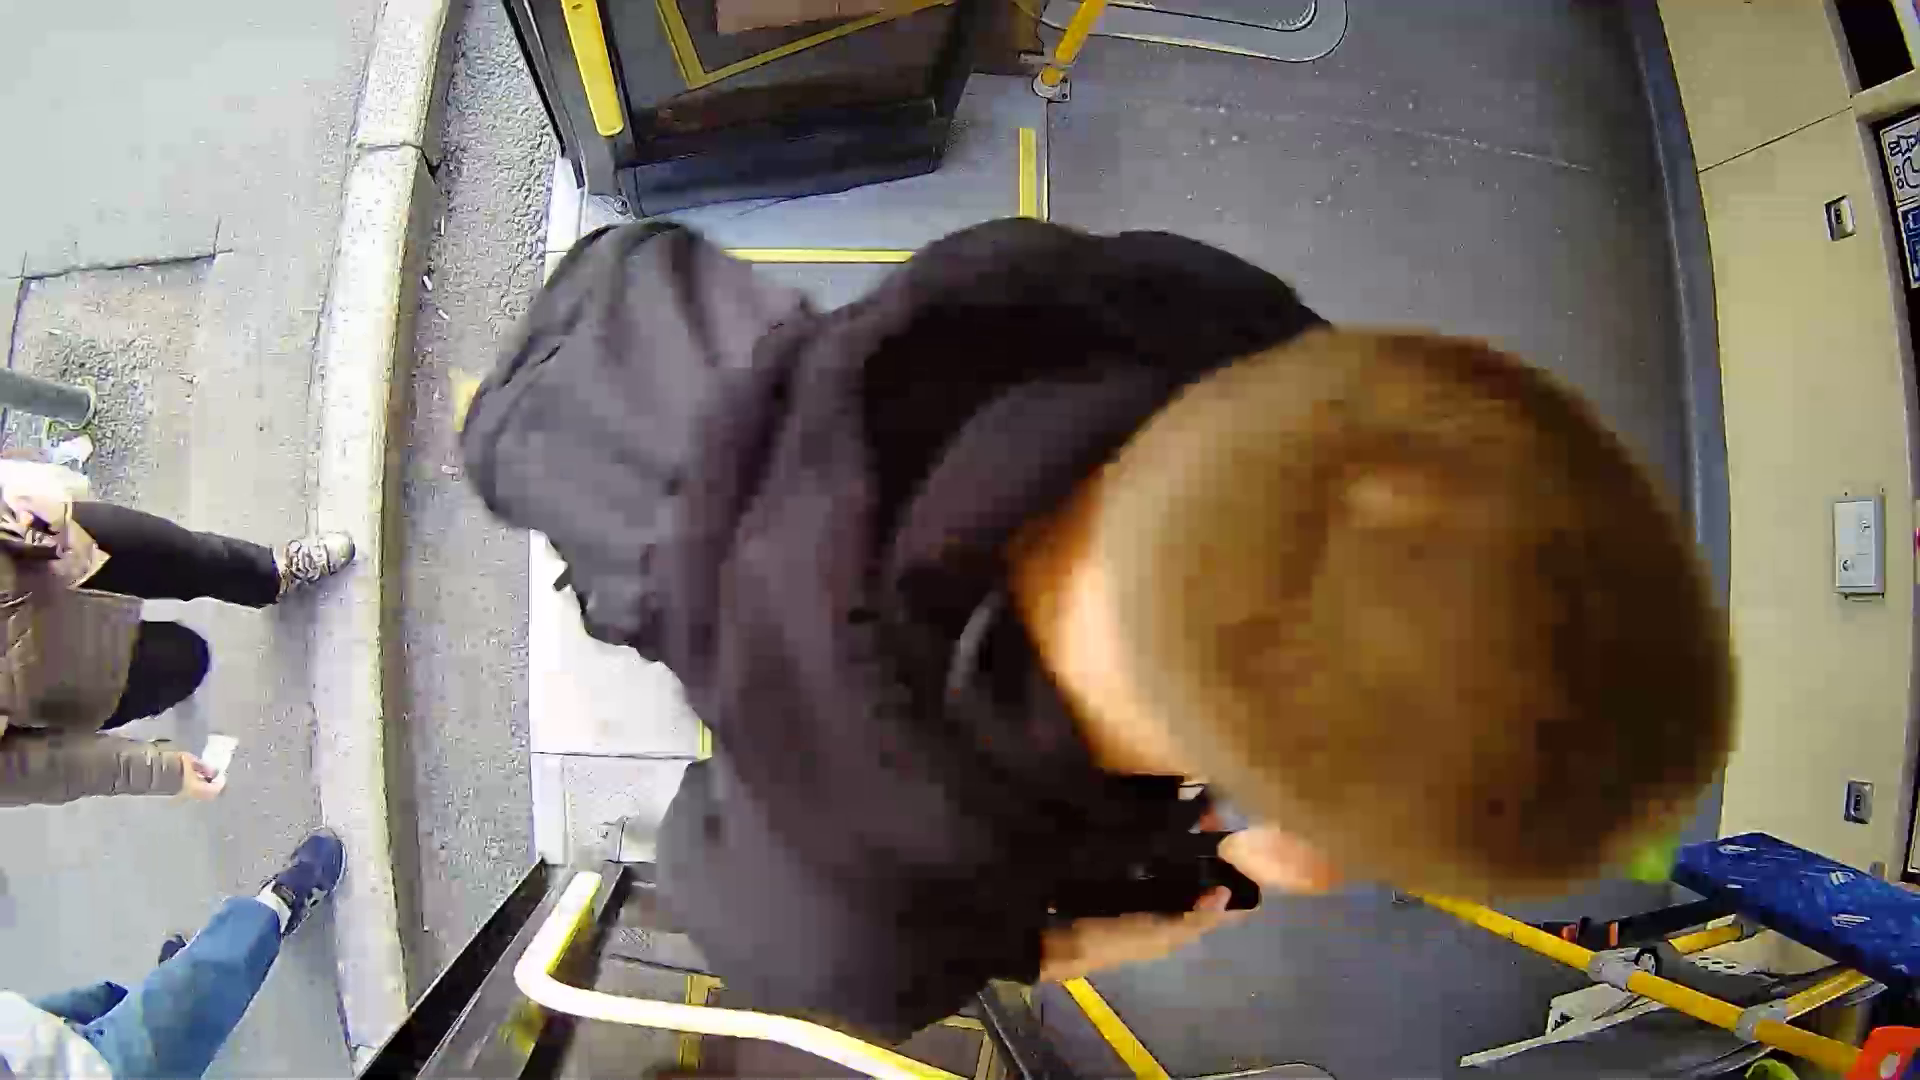person: (525, 187, 1770, 1070)
